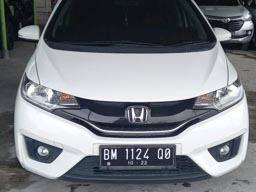plat: (100, 144, 177, 159)
